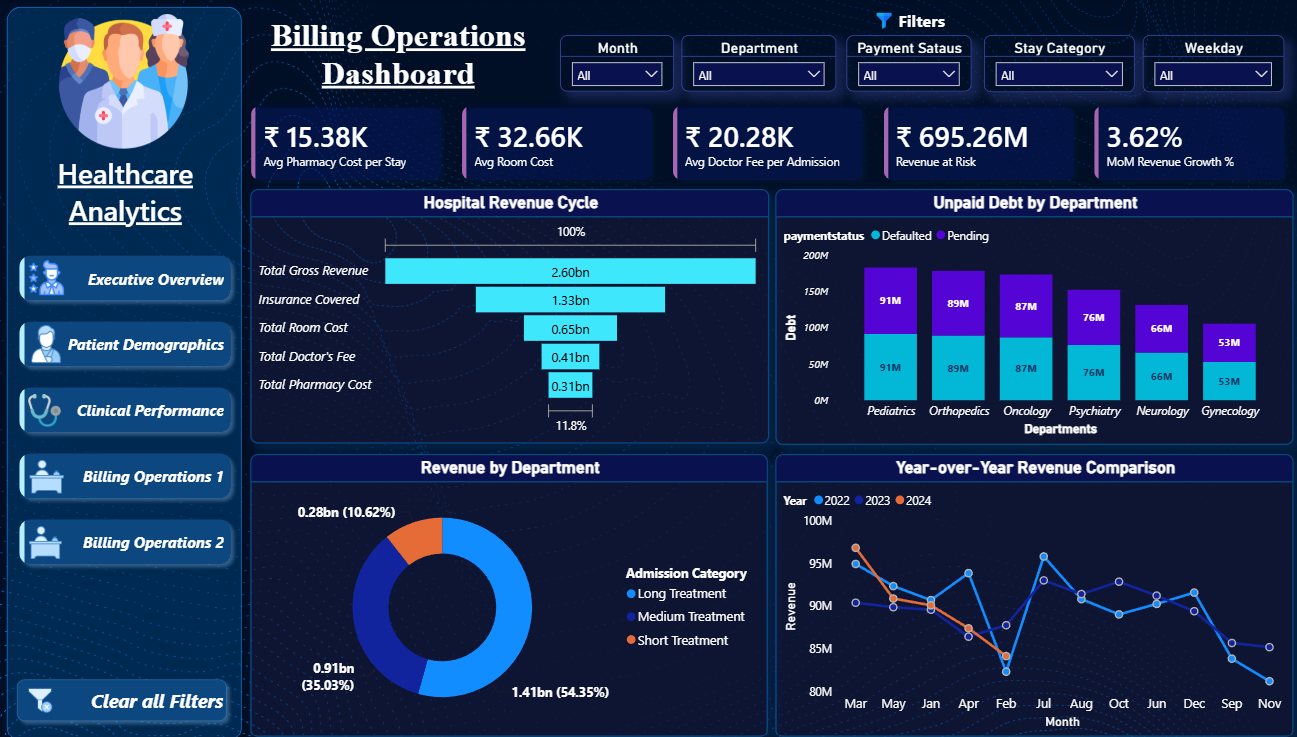

The page's visual inventory and layout, read from the dashboard file:
{"tool":"powerbi","page":{"name":"Billing Operations 1","canvas":[1500,860],"ordinal":3},"visuals":[{"type":"group","id":"g1","title":"Group 2","box":[0,0,288.9,865.2],"z":0,"group":"g5"},{"type":"shape","box":[0,0,288.9,865.2],"z":0,"group":"g1"},{"type":"group","id":"g2","title":"Group 4","box":[626.7,0,874.1,125.3],"z":0,"group":"g4"},{"type":"group","id":"g3","title":"Group 3","box":[626.7,0,874.1,125.3],"z":0,"group":"g2"},{"type":"shape","box":[626.7,0,874.1,125.3],"z":0,"group":"g3"},{"type":"cardVisual","fields":{"Data":["measures_.Total Gross Revenue","measures_.Cleared Revenue","measures_.Outstanding Debt","measures_.Insurance Coverage Ratio","measures_.Payment Clearance Rate"]},"box":[273.6,107,1225.9,119.2],"z":0},{"type":"pageNavigator","box":[13.9,287.4,262.3,374.7],"z":0,"group":"g6"},{"type":"group","id":"g4","title":"Group 5","box":[626.7,0,874.1,125.3],"z":1000},{"type":"textbox","box":[633.8,6.7,859.3,41.6],"z":1000,"group":"g2"},{"type":"image","box":[1001.5,16.2,37.4,18.7],"z":1000,"group":"g4"},{"type":"image","box":[58.1,16.6,172.7,155.2],"z":1000,"group":"g1"},{"type":"slicer","title":"Department","fields":{"Values":["admissions.department"]},"box":[787.1,41.8,178.7,64.8],"z":1000,"group":"g3"},{"type":"image","box":[30.6,300.7,46.7,43.3],"z":1000,"group":"g6"},{"type":"actionButton","box":[12.2,774.8,259.9,66.2],"z":1000,"group":"g5"},{"type":"group","id":"g5","title":"Group 6","box":[0,0,288.9,865.2],"z":2000},{"type":"slicer","title":"Payment Sataus","fields":{"Values":["billing.paymentstatus"]},"box":[976.9,41.8,144.1,64.8],"z":2000,"group":"g3"},{"type":"textbox","box":[18.3,166.7,256.7,116.7],"z":2000,"group":"g1"},{"type":"image","box":[29.6,375.8,48.9,46.7],"z":2000,"group":"g6"},{"type":"image","box":[24.5,793.4,45.4,28.5],"z":2000,"group":"g5"},{"type":"textbox","box":[274.3,7.1,372.9,118.6],"z":3000},{"type":"slicer","title":"Weekday","fields":{"Values":["Calendar.Weekday"]},"box":[1318.3,41.3,162.9,65.3],"z":3000,"group":"g3"},{"type":"image","box":[30.6,530.7,46.7,41.1],"z":3000,"group":"g6"},{"type":"slicer","title":"Stay Category","fields":{"Values":["admissions.stay_category"]},"box":[1135.1,41.3,173.4,65.3],"z":4000,"group":"g3"},{"type":"lineStackedColumnComboChart","title":"Revenue vs Doctor Fees","fields":{"Y":["Sum(billing.totalcost)"],"Category":["Calendar.Month"],"Y2":["Sum(billing.doctor_fee)"],"Series":["hospitals.region"]},"box":[289.2,520,1204.6,333.8],"z":4000},{"type":"image","box":[30,606.6,46.7,40],"z":4000,"group":"g6"},{"type":"slicer","title":"Month","fields":{"Values":["Calendar.Month"]},"box":[647.3,41.8,131.1,64.8],"z":5000,"group":"g3"},{"type":"clusteredBarChart","title":"Insurance Coverage Ratio","fields":{"Y":["Sum(billing.totalcost)","Sum(billing.insurancecovered)"],"Category":["hospitals.hospitalname"]},"box":[895,220,597.5,293.8],"z":5000},{"type":"image","box":[28.9,456.6,47.8,37.8],"z":5000,"group":"g6"},{"type":"map","title":"Unpaid Debt by City","fields":{"Category":["hospitals.city"],"Series":["hospitals.city"],"Size":["measures_.Outstanding Debt"]},"box":[289.6,220.5,596.6,294],"z":6000},{"type":"group","id":"g6","title":"Group 1","box":[13.9,287.4,262.3,374.7],"z":7000}]}

Visuals, with their boxes in screenshot pixels (x1, y1, x2, y2), scaled from the page's 1500x860 canvas onto the 1297x737 screenshot:
"Group 2" group: (x1=0, y1=0, x2=250, y2=736)
shape: (x1=0, y1=0, x2=250, y2=736)
"Group 4" group: (x1=542, y1=0, x2=1296, y2=107)
"Group 3" group: (x1=542, y1=0, x2=1296, y2=107)
shape: (x1=542, y1=0, x2=1296, y2=107)
cardVisual - measures_.Total Gross Revenue x measures_.Cleared Revenue: (x1=237, y1=92, x2=1296, y2=194)
pageNavigator: (x1=12, y1=246, x2=239, y2=567)
"Group 5" group: (x1=542, y1=0, x2=1296, y2=107)
textbox: (x1=548, y1=6, x2=1291, y2=41)
image: (x1=866, y1=14, x2=898, y2=30)
image: (x1=50, y1=14, x2=200, y2=147)
"Department" slicer: (x1=681, y1=36, x2=835, y2=91)
image: (x1=26, y1=258, x2=67, y2=295)
actionButton: (x1=11, y1=664, x2=235, y2=721)
"Group 6" group: (x1=0, y1=0, x2=250, y2=736)
"Payment Sataus" slicer: (x1=845, y1=36, x2=969, y2=91)
textbox: (x1=16, y1=143, x2=238, y2=243)
image: (x1=26, y1=322, x2=68, y2=362)
image: (x1=21, y1=680, x2=60, y2=704)
textbox: (x1=237, y1=6, x2=560, y2=108)
"Weekday" slicer: (x1=1140, y1=35, x2=1281, y2=91)
image: (x1=26, y1=455, x2=67, y2=490)
"Stay Category" slicer: (x1=981, y1=35, x2=1131, y2=91)
"Revenue vs Doctor Fees" lineStackedColumnComboChart: (x1=250, y1=446, x2=1292, y2=732)
image: (x1=26, y1=520, x2=66, y2=554)
"Month" slicer: (x1=560, y1=36, x2=673, y2=91)
"Insurance Coverage Ratio" clusteredBarChart: (x1=774, y1=189, x2=1291, y2=440)
image: (x1=25, y1=391, x2=66, y2=424)
"Unpaid Debt by City" map: (x1=250, y1=189, x2=766, y2=441)
"Group 1" group: (x1=12, y1=246, x2=239, y2=567)
